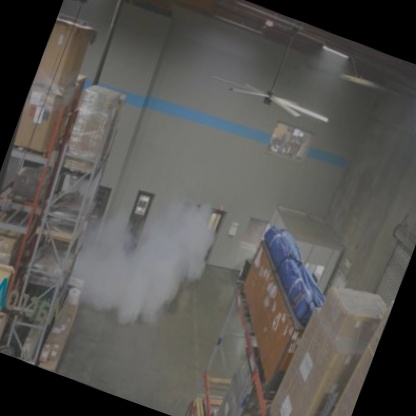smoke: (79, 177, 223, 332)
